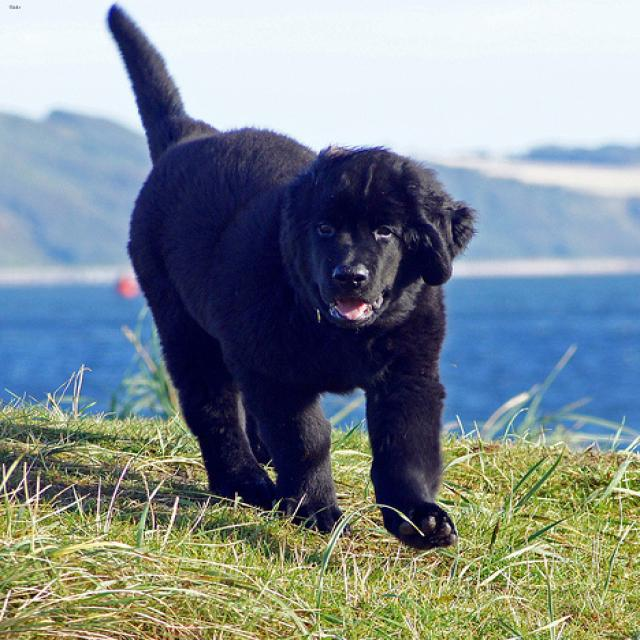dog-newfoundland: (83, 1, 496, 563)
